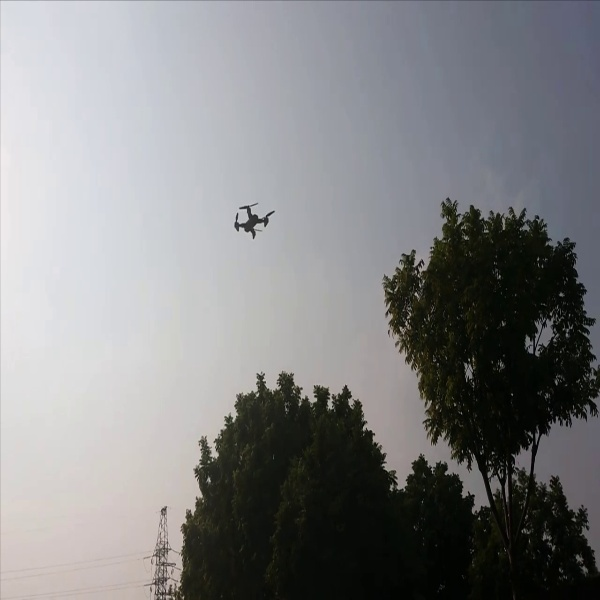drone: (221, 194, 279, 249)
